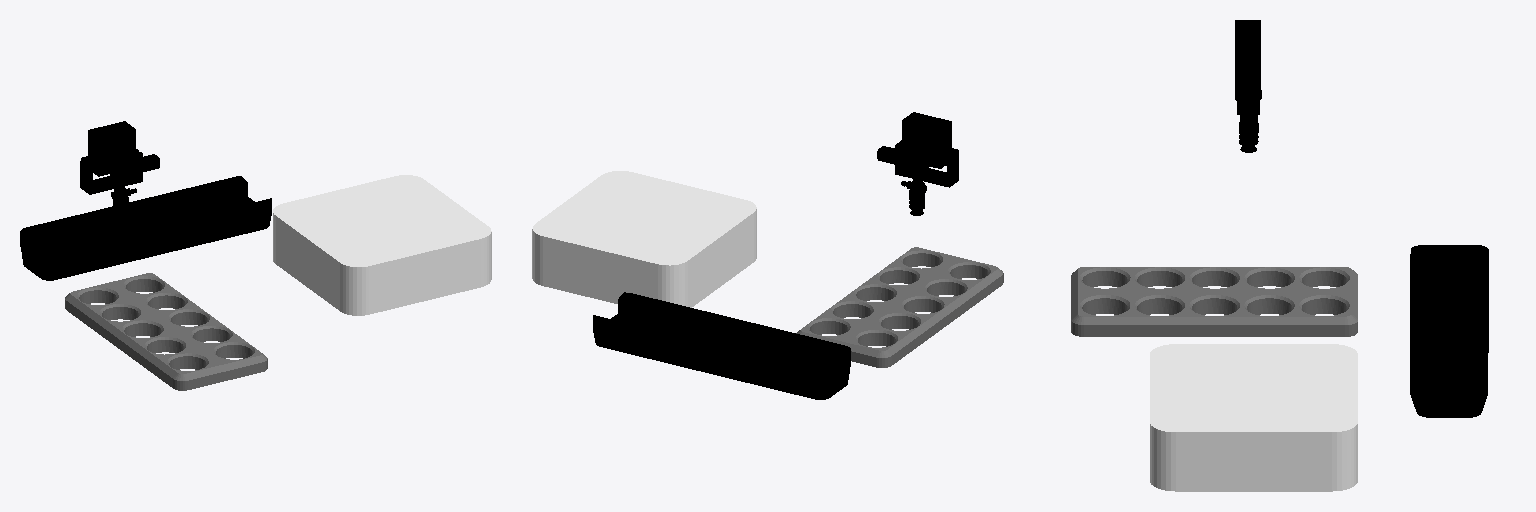
URDF robot description (dobot):
<?xml version="1.0" encoding="utf-8"?>
<!-- =================================================================================== -->
<!-- |    This document was autogenerated by xacro from robot1.urdf.xacro              | -->
<!-- |    EDITING THIS FILE BY HAND IS NOT RECOMMENDED                                 | -->
<!-- =================================================================================== -->
<robot name="dobot">
  <material name="black">
    <color rgba="0 0 0 1"/>
  </material>
  <material name="white">
    <color rgba="1 1 1 1"/>
  </material>
  <material name="gray">
    <color rgba="0.5 0.5 0.5 1"/>
  </material>



  <link name="black_pallet">
    <visual>
      <origin rpy="0 0 3.14" xyz="0.0 0.0 0.02"/>
      <geometry>
        <mesh filename="package://dobot/urdf/meshes/black_pallet.stl" scale="0.001 0.001 0.001"/>
      </geometry>
      <material name="pallet_color">
        <color rgba="0 0 0 0.75"/>
      </material>
    </visual>
  </link>

  <link name="pallet">
    <visual>
      <origin rpy="0 0 1.57" xyz="0.0 0.0 0.0"/>
      <geometry>
        <mesh filename="package://dobot/urdf/meshes/pallet.stl" scale="0.001 0.001 0.001"/>
      </geometry>
      <material name="gray"/>
    </visual>
  </link>

  <joint name="black_pallet_fix" type="fixed">
    <parent link="base"/>
    <child link="black_pallet"/>
    <origin rpy="0 0 0" xyz="-0.29 0.15 0"/>
  </joint>

  <joint name="pallet_fix" type="fixed">
    <parent link="base"/>
    <child link="pallet"/>
    <origin rpy="0 0 0" xyz="-0.25 -0.03 0"/>
  </joint>


  <link name="base">
    <visual>
      <origin rpy="0 0 0" xyz="0 0.08 0"/>
      <geometry>
        <mesh filename="package://dobot/urdf/meshes/base.stl" scale="0.001 0.001 0.001"/>
      </geometry>
      <material name="white"/>
    </visual>
  </link>
  
  <link name="base_link">
    <visual>
      <origin rpy="0 0 0" xyz="0.006535 -0.0812 0"/>
      <geometry>
        <mesh filename="package://dobot/urdf/meshes/0part.stl" scale="0.01 0.01 0.01"/>
      </geometry>
      <material name="white"/>
    </visual>
  </link>
  <link name="link_1">
    <visual>
      <origin rpy="0 0 0" xyz="0.006535 -0.0812 -0.1"/>
      <geometry>
        <mesh filename="package://dobot/urdf/meshes/1part.stl" scale="0.001 0.001 0.001"/>
      </geometry>
      <material name="white"/>
    </visual>
  </link>
  <link name="link_2">
    <visual>
      <origin rpy="0 0 0" xyz="0.006535 -0.0812 -0.143"/>
      <geometry>
        <mesh filename="package://dobot/urdf/meshes/2.stl" scale="0.001 0.001 0.001"/>
      </geometry>
      <material name="white"/>
    </visual>
  </link>
  <link name="link_2_1">
    <visual>
      <origin rpy="0 0.57 0" xyz="0 0 0"/>
      <geometry>
        <mesh filename="package://dobot/urdf/meshes/sterz2_1.stl" scale="0.01 0.01 0.01"/>
      </geometry>
      <material name="white"/>
    </visual>
  </link>
  <link name="link_3">
    <visual>
      <origin rpy="0 0 0" xyz="0.119 -0.0813 -0.217"/>
      <geometry>
        <mesh filename="package://dobot/urdf/meshes/3.stl" scale="0.001 0.001 0.001"/>
      </geometry>
      <material name="white"/>
    </visual>
  </link>
  <link name="triangle">
    <visual>
      <origin rpy="0 0.16 0" xyz="0 0 0"/>
      <geometry>
        <mesh filename="package://dobot/urdf/meshes/trianglestab.stl" scale="0.01 0.01 0.01"/>
      </geometry>
      <material name="black"/>
    </visual>
  </link>
  <link name="link_3_1">
    <visual>
      <origin rpy="0 -0.65 0" xyz="0 0 0"/>
      <geometry>
        <mesh filename="package://dobot/urdf/meshes/sterz3_1.stl" scale="0.01 0.01 0.01"/>
      </geometry>
      <material name="white"/>
    </visual>
  </link>
  <link name="link_4">
    <visual>
      <origin rpy="0 0 0" xyz="0.272 -0.079 -0.16"/>
      <geometry>
        <mesh filename="package://dobot/urdf/meshes/raborg.stl" scale="0.001 0.001 0.001"/>
      </geometry>
      <material name="black"/>
    </visual>
  </link>

  <link name="gripp">
    <visual>
      <origin rpy="0 0 0" xyz="0 0 0"/>
      <geometry>
        <mesh filename="package://dobot/urdf/meshes/gripper.stl" scale="0.001 0.001 0.001"/>
      </geometry>
      <material name="black"/>
    </visual>
  </link>

  <joint name="base_fix" type="fixed">
    <parent link="base"/>
    <child link="base_link"/>
    <origin rpy="0 0 0" xyz="0 0 0.04"/>
  </joint>


  <joint name="0-1" type="revolute">
    <axis xyz="0 0 1"/>
    <limit effort="1000.0" lower="-2.39" upper="2.108" velocity="1"/>
    <parent link="base_link"/>
    <child link="link_1"/>
    <origin rpy="0 0 0" xyz="0 0 0.1"/>
  </joint>
  <joint name="1-2" type="revolute">
    <axis xyz="0 1 0"/>
    <limit effort="1000.0" lower="-0.18" upper="1.77" velocity="1"/>
    <parent link="link_1"/>
    <child link="link_2"/>
    <origin rpy="0 0 0" xyz="0 0 0.042"/>
  </joint>
  <joint name="1-2_1" type="revolute">
    <axis xyz="0 1 0"/>
    <limit effort="1000.0" lower="-6.28" upper="6.28" velocity="1"/>
    <parent link="link_1"/>
    <child link="link_2_1"/>
    <origin rpy="0 0 0" xyz="0.04 -0.009 0.0625"/>
  </joint>
  <joint name="2-3" type="revolute">
    <axis xyz="0 1 0"/>
    <limit effort="1000.0" lower="-0.34" upper="1.12" velocity="1"/>
    <parent link="link_2"/>
    <child link="link_3"/>
    <origin rpy="0 0 0" xyz="-0.11246 0 0.0744"/>
  </joint>
  <joint name="2_1-triangle" type="revolute">
    <axis xyz="0 1 0"/>
    <limit effort="1000.0" lower="-6.28" upper="6.28" velocity="1"/>
    <parent link="link_2_1"/>
    <child link="triangle"/>
    <origin rpy="0 0 0" xyz="-0.1137 0.005 0.073"/>
  </joint>
  <joint name="triangle-3_1" type="revolute">
    <axis xyz="0 1 0"/>
    <limit effort="1000.0" lower="-6.28" upper="6.28" velocity="1"/>
    <parent link="triangle"/>
    <child link="link_3_1"/>
    <origin rpy="0 0 0" xyz="-0.071 0 0.0115"/>
  </joint>
  <joint name="3_1-4" type="revolute">
    <axis xyz="0 1 0"/>
    <limit effort="1000.0" lower="-6.28" upper="6.28" velocity="1"/>
    <parent link="link_3_1"/>
    <child link="link_4"/>
    <origin rpy="0 0 0" xyz="-0.117 0 -0.0888"/>
  </joint>

	<joint name="grip_joint" type="fixed">
		<parent link="link_4"/>
		<child link="gripp"/>
		<origin xyz = "-0.022 0 -0.079" rpy="0 0 0" />
		<axis xyz="0 0 0" />
	</joint>
</robot>

--- What the picture shows (computed from the rendered views, not written in the file) ---
3 views of the same robot in one strip: view 1: azimuth 30°, elevation 25°; view 2: azimuth 150°, elevation 25°; view 3: azimuth 270°, elevation 25° (orthographic).
Model dobot with 12 links and 11 joints (7 revolute, 4 fixed), rooted at base, posed all joints at 0.
Links seen in each view (by area): view 1: base, black_pallet, pallet, gripp; view 2: base, black_pallet, pallet, gripp; view 3: base, pallet, black_pallet, gripp.
Boxes of the visible links, box(x1,y1,x2,y2) form: base: box(273, 175, 491, 315); black_pallet: box(20, 176, 271, 280); pallet: box(65, 273, 267, 390); gripp: box(80, 121, 159, 221); base: box(532, 171, 756, 307); black_pallet: box(593, 292, 850, 399); pallet: box(796, 247, 1003, 367); gripp: box(877, 112, 958, 215); base: box(1150, 344, 1357, 491); pallet: box(1071, 267, 1357, 336); black_pallet: box(1410, 245, 1488, 417); gripp: box(1235, 20, 1261, 152).
Size in the robot's own frame: 0.4027 by 0.32 by 0.2146 metres.
4 mesh visuals loaded from 12 distinct referenced files (4 binary STL); not drawn: 8 (reference not matched to a file when rendering).